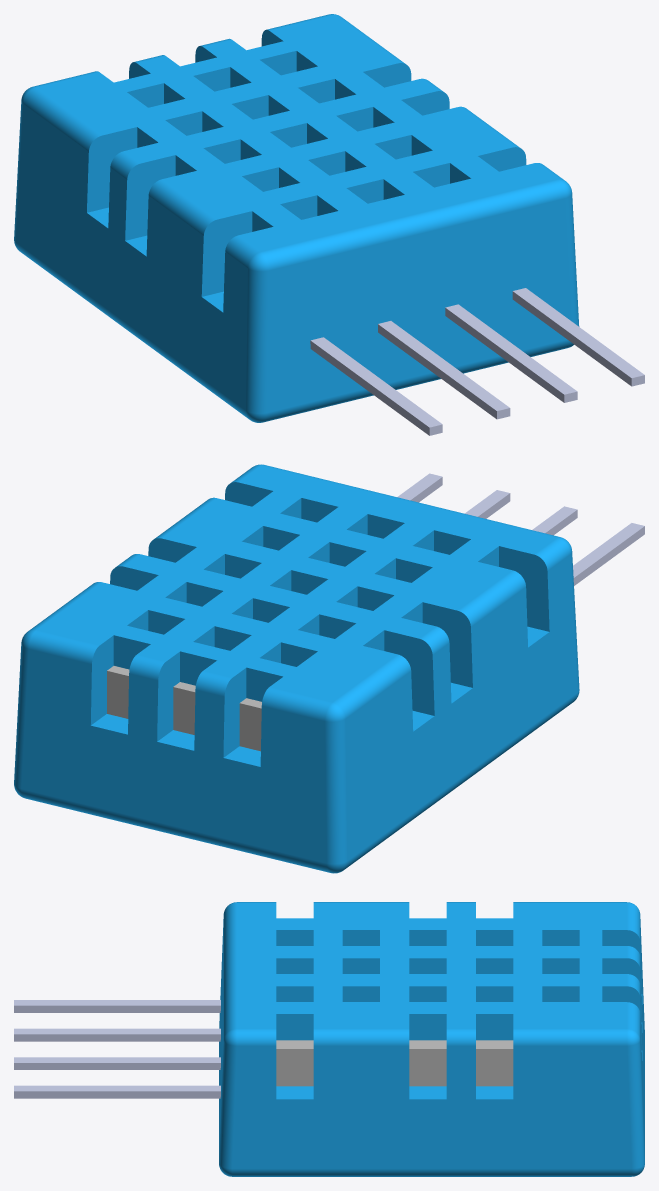
File: temphum.glb
3 views of the same model, one above another, from view 1: azimuth 30°, elevation 25°; view 2: azimuth 150°, elevation 25°; view 3: azimuth 270°, elevation 25° (orthographic). The views are drawn at different scales.
Size of the model in its own units: 0.0125 by 0.006 by 0.0237.
